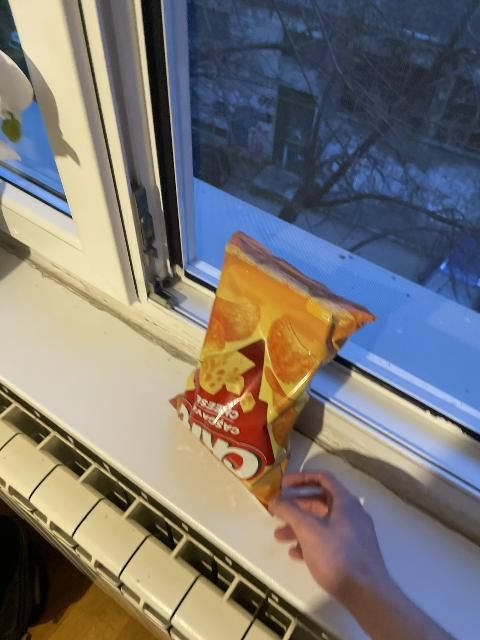Chio Cascaval 125g: (171, 234, 376, 508)
